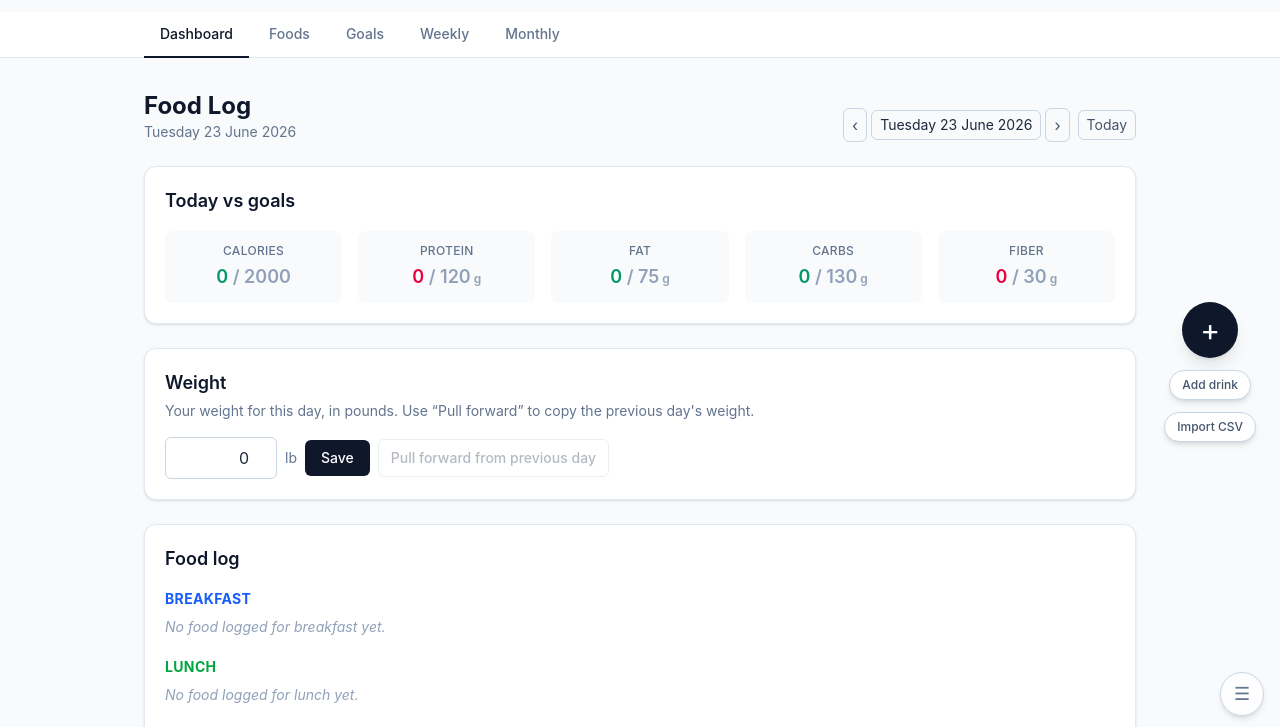
Test case: App tab navigation › switches to the Foods page when the Foods tab is clicked
Click the tab "Foods". click: (289, 35)
box: [253,12,326,58]
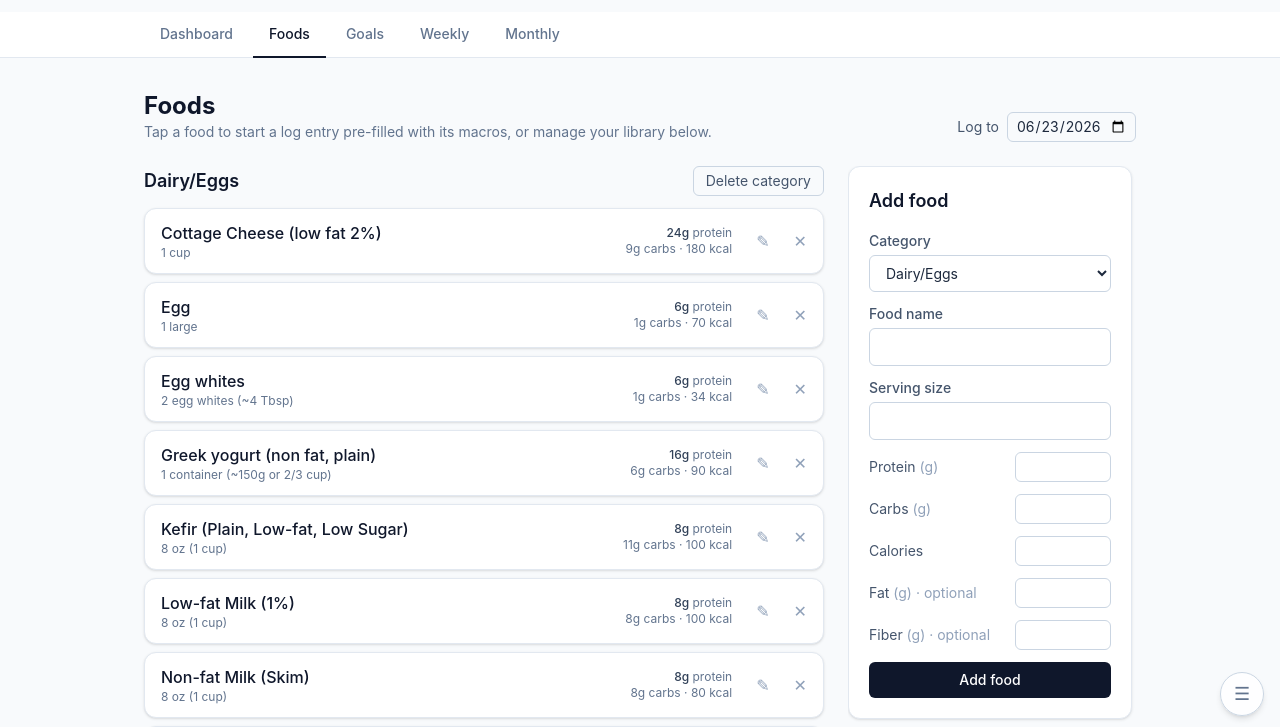
Check: the heading "Dairy/Eggs" is shown, box [144,167,239,195]
